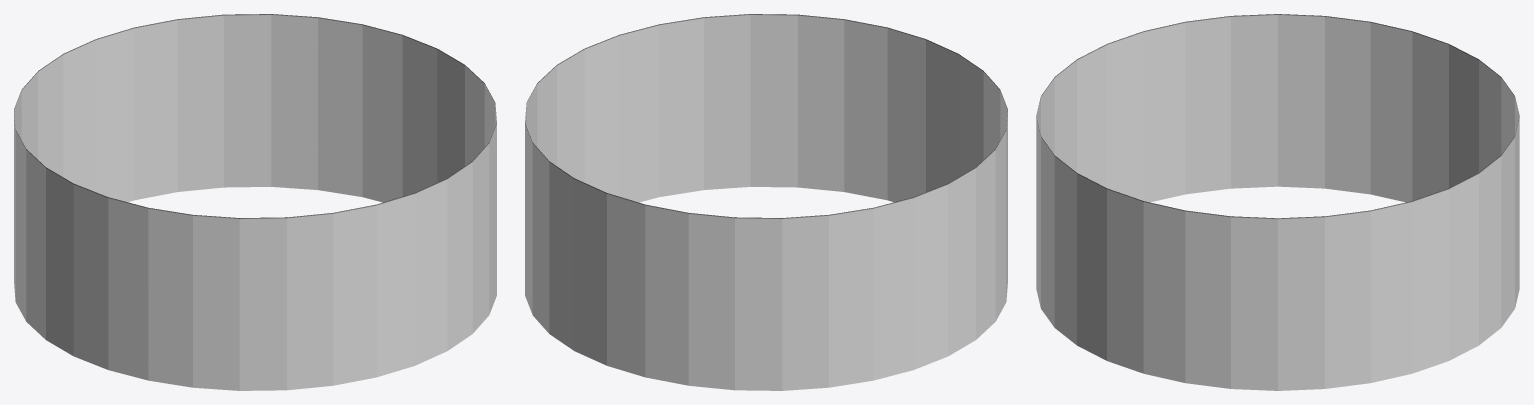
Rendered from warden_cage_warning.obj.
The picture shows the model from 3 angles, left to right: view 1: azimuth 30°, elevation 25°; view 2: azimuth 150°, elevation 25°; view 3: azimuth 270°, elevation 25°; orthographic projection.
Parts seen in each view (by area): view 1: Cube.001; view 2: Cube.001; view 3: Cube.001.
Part boxes in pixels (x1,y1,x2,y2): Cube.001: (14, 14, 496, 390); Cube.001: (525, 14, 1007, 390); Cube.001: (1036, 14, 1519, 390).
Bounding box in the file's own units: 5.73 × 2.26 × 5.73.
